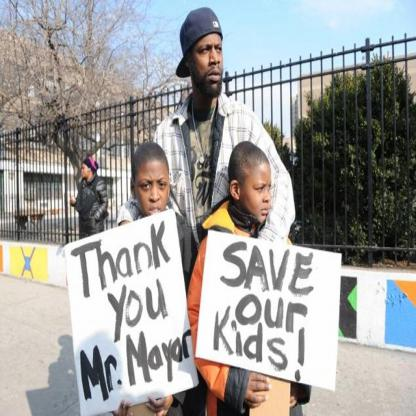face: (191, 34, 224, 97), (138, 163, 170, 221), (241, 166, 273, 223), (83, 163, 89, 177)
